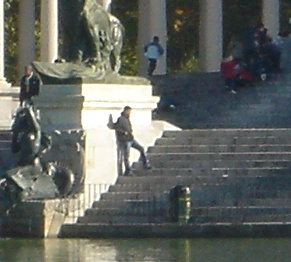person: (112, 104, 139, 176)
